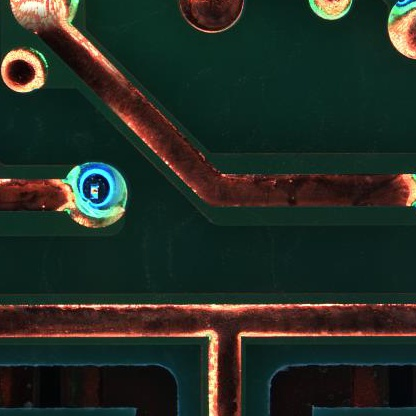spot: (64, 160, 128, 228)
